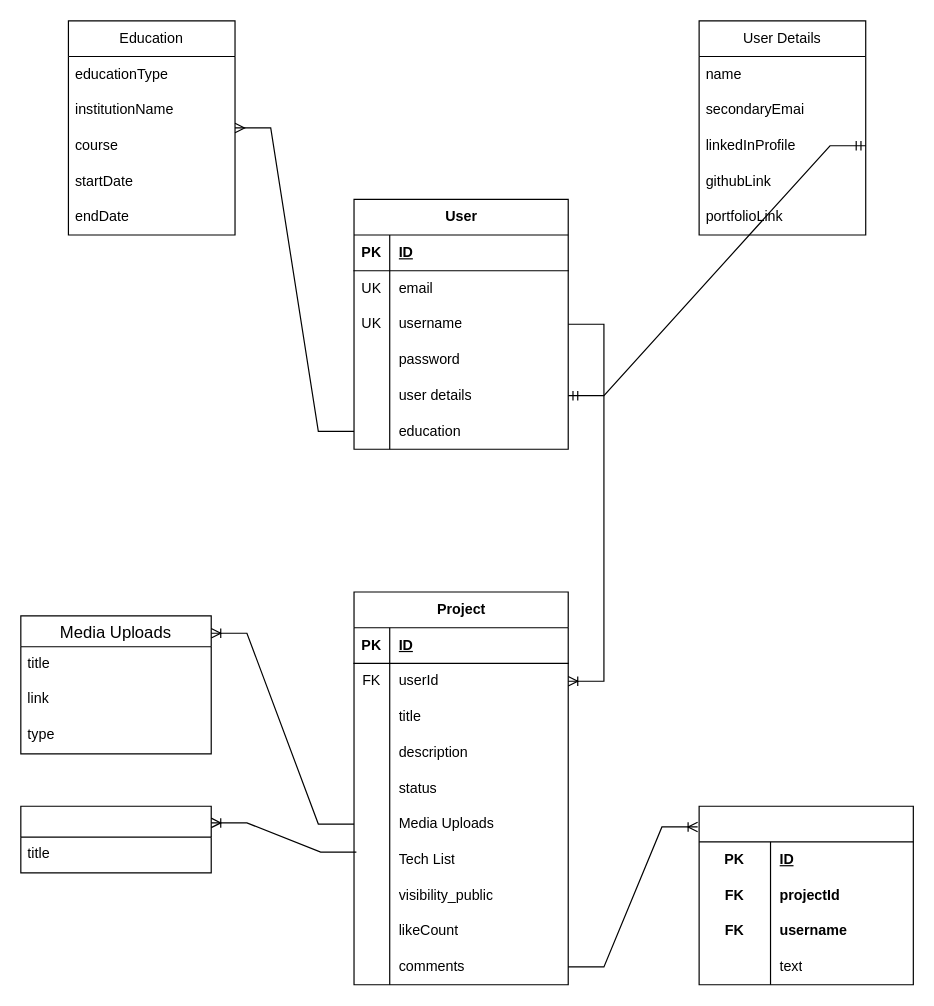
This 934x1006 diagram has some shape labels left out. Here are the shapes that lost their labels. From the top down, the box of each, then its label:
(20, 805, 211, 873): Tech
(698, 805, 913, 985): Comment
